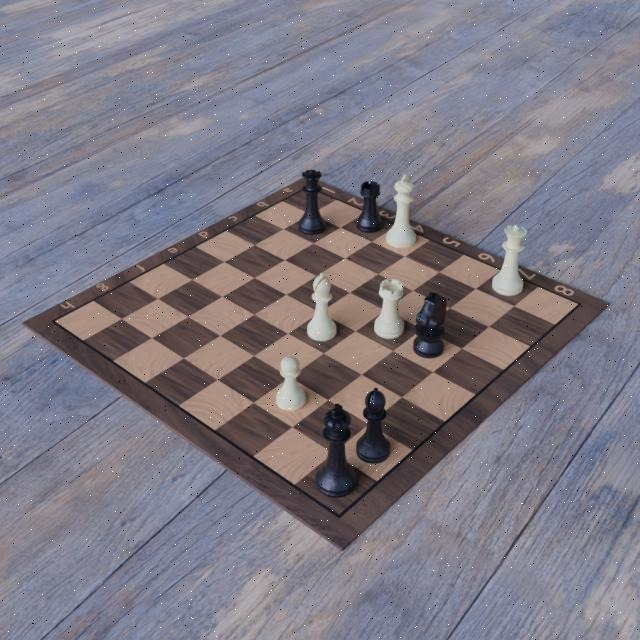black-bishop: (355, 384, 393, 465)
black-king: (313, 398, 361, 499)
black-knight: (410, 288, 448, 360)
black-queen: (298, 167, 326, 236)
black-rook: (357, 177, 383, 234)
white-bishop: (305, 268, 338, 344)
white-king: (384, 173, 417, 251)
white-pawn: (274, 352, 308, 413)
white-queen: (489, 222, 528, 299)
white-rook: (373, 274, 406, 344)
